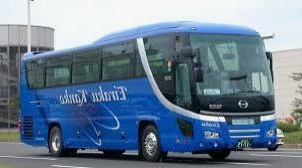bus: (17, 22, 276, 160)
